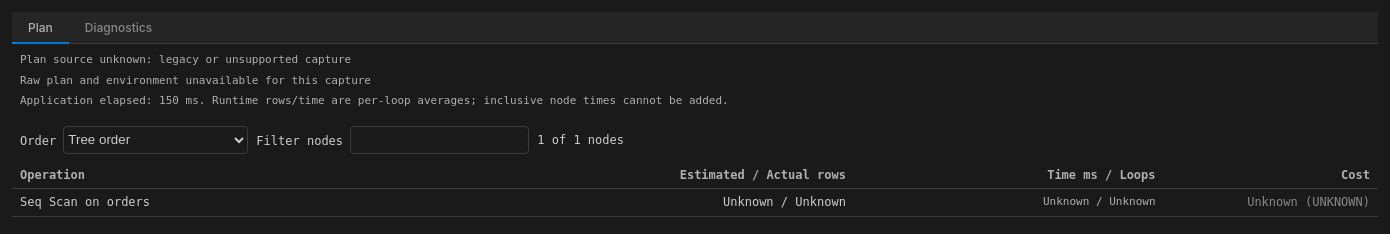
Scenario: ResultsPanel › Diagnostics integration › shows the real error screen when the hook is present with an error message
Click the tab "Diagnostics": [118, 28] box [69,12,168,44]
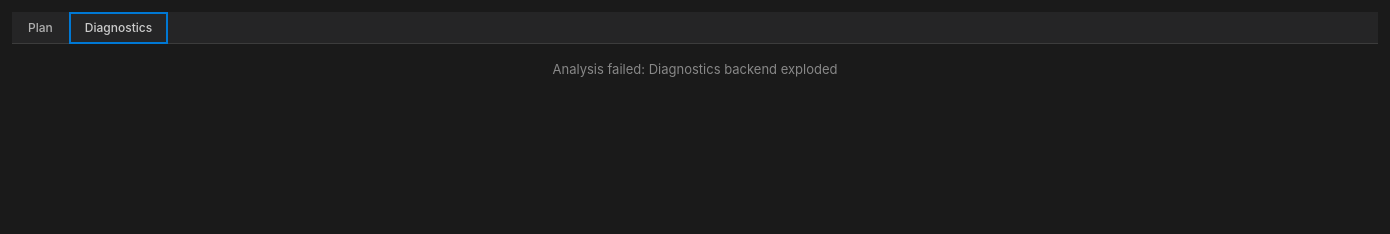
Expected: the text "Analysis failed: Diagnostics backend exploded" is shown, [552,60,838,80]
